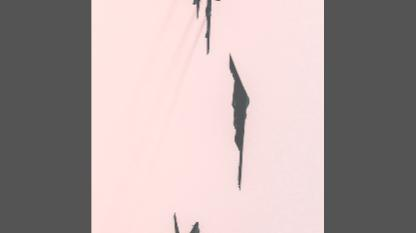B1: (230, 51, 250, 190)
B2: (191, 0, 222, 56)
